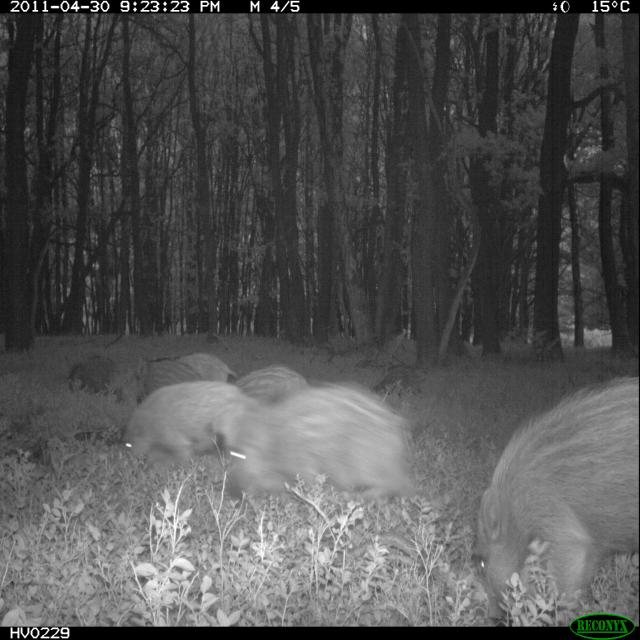boar: (463, 370, 640, 621), (217, 383, 429, 520), (103, 363, 284, 464), (232, 346, 310, 411), (166, 335, 240, 396)
